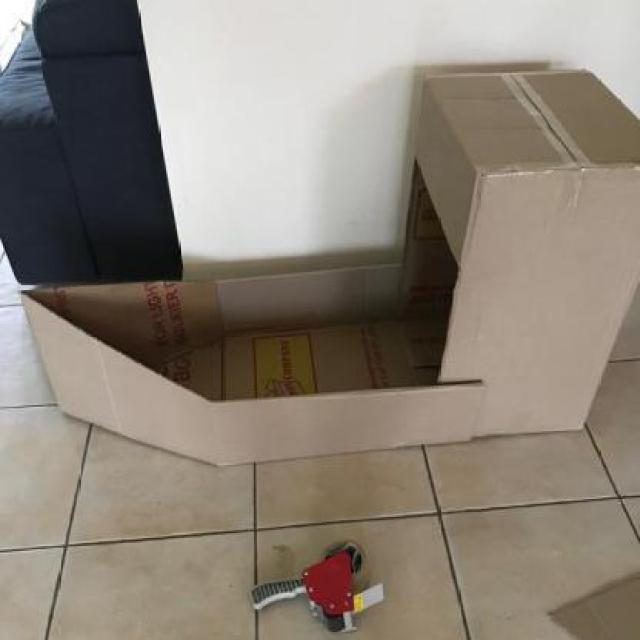box: (0, 54, 638, 476)
